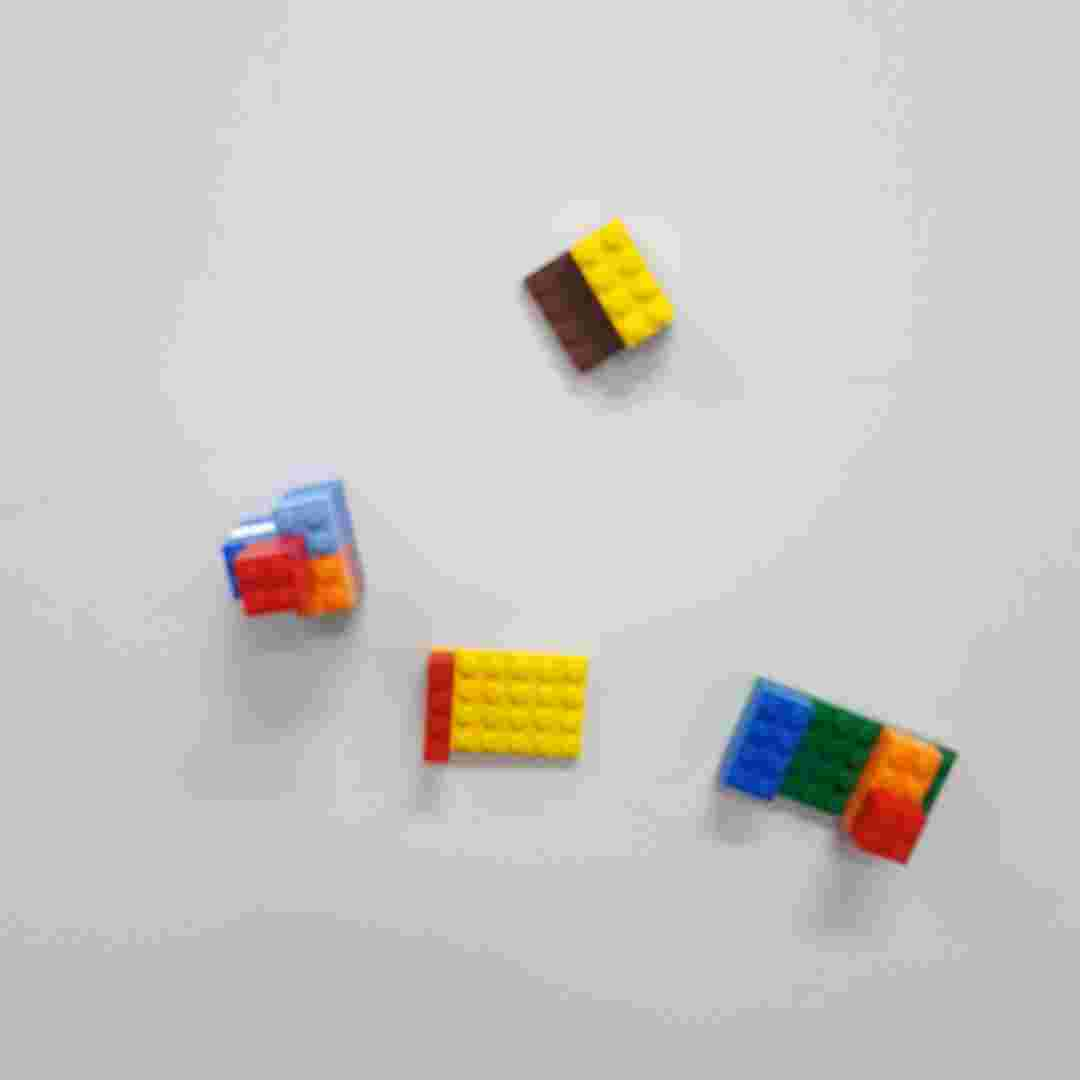LEGO: (718, 672, 961, 868), (524, 216, 685, 373), (220, 475, 372, 621), (420, 645, 596, 769)
